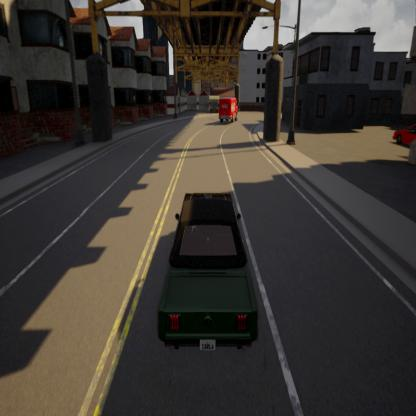Cars: (148, 184, 265, 358), (386, 116, 416, 152), (215, 94, 240, 126)
